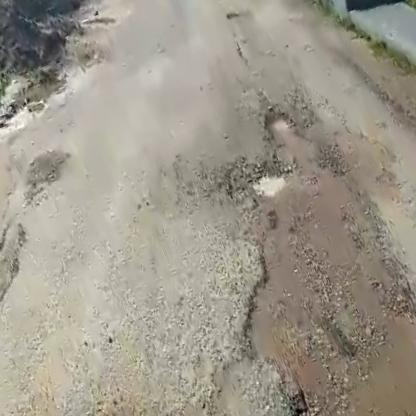pothole: (228, 151, 301, 219), (257, 99, 304, 147)
